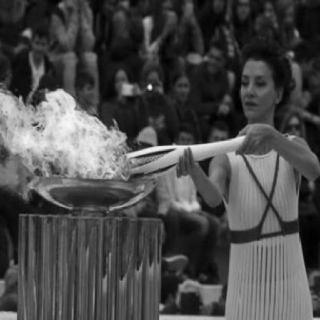Fire: (6, 73, 146, 209)
